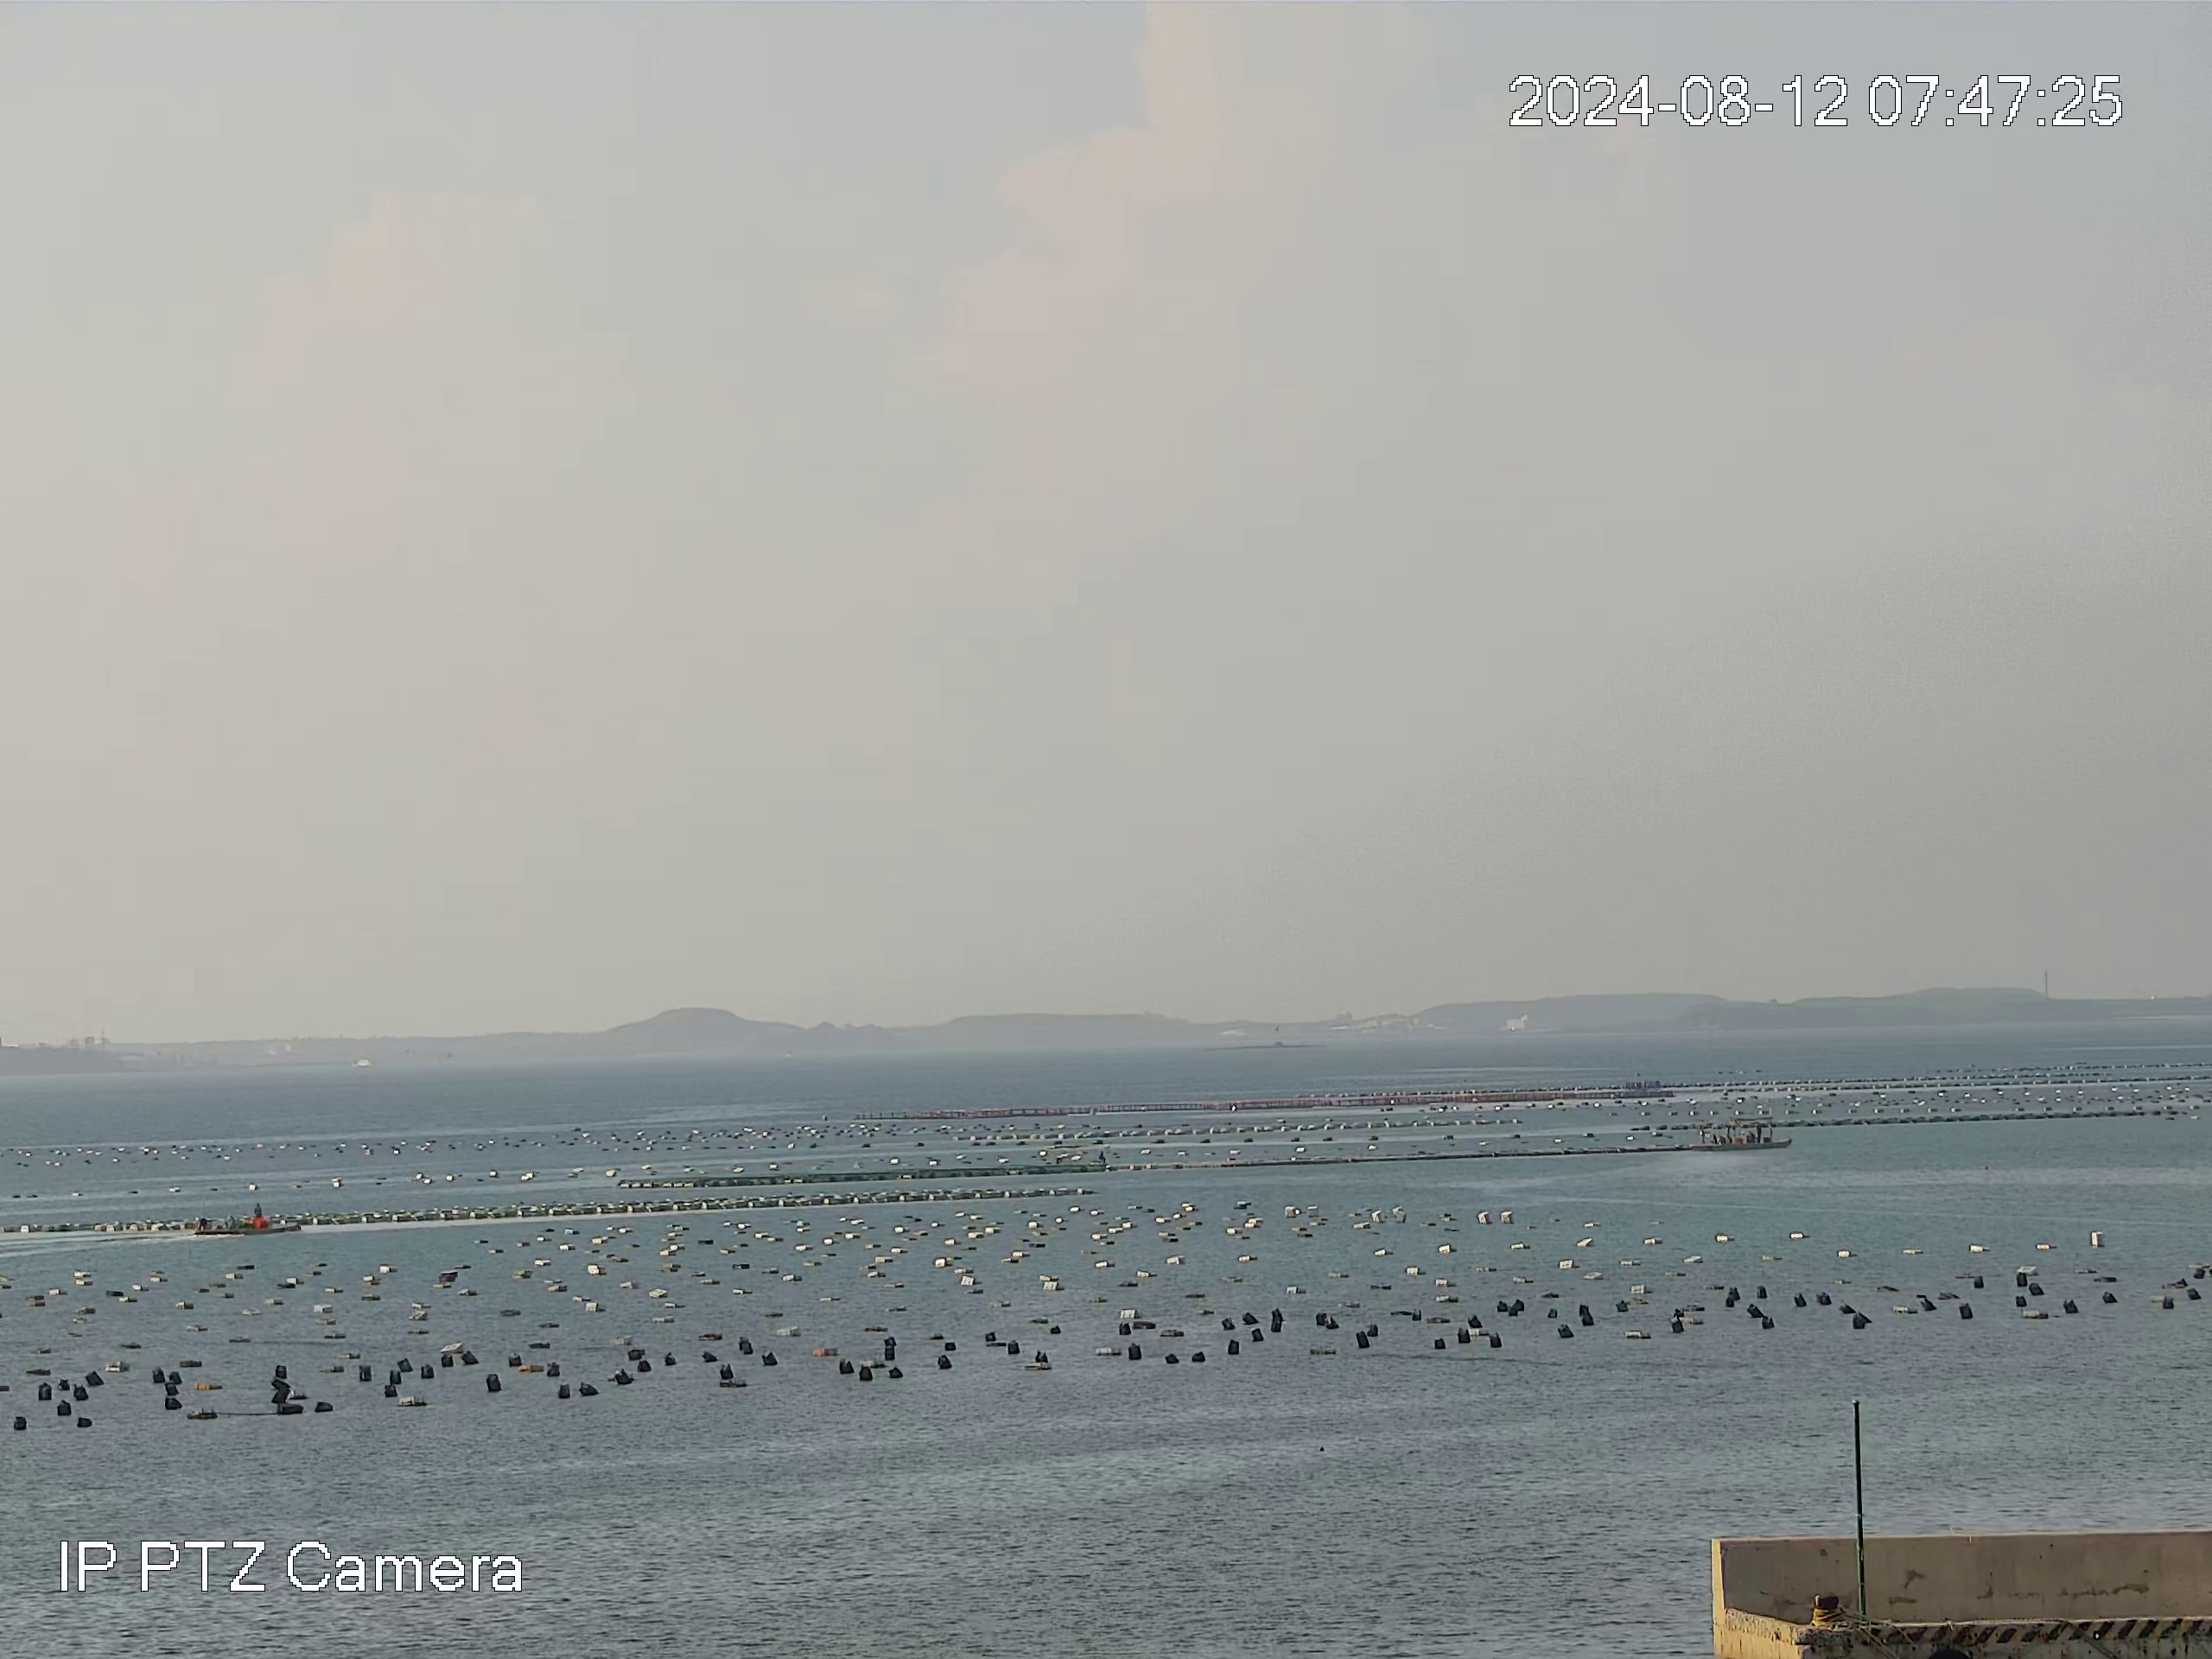boat: (193, 1202, 301, 1236), (1698, 1115, 1775, 1148)
